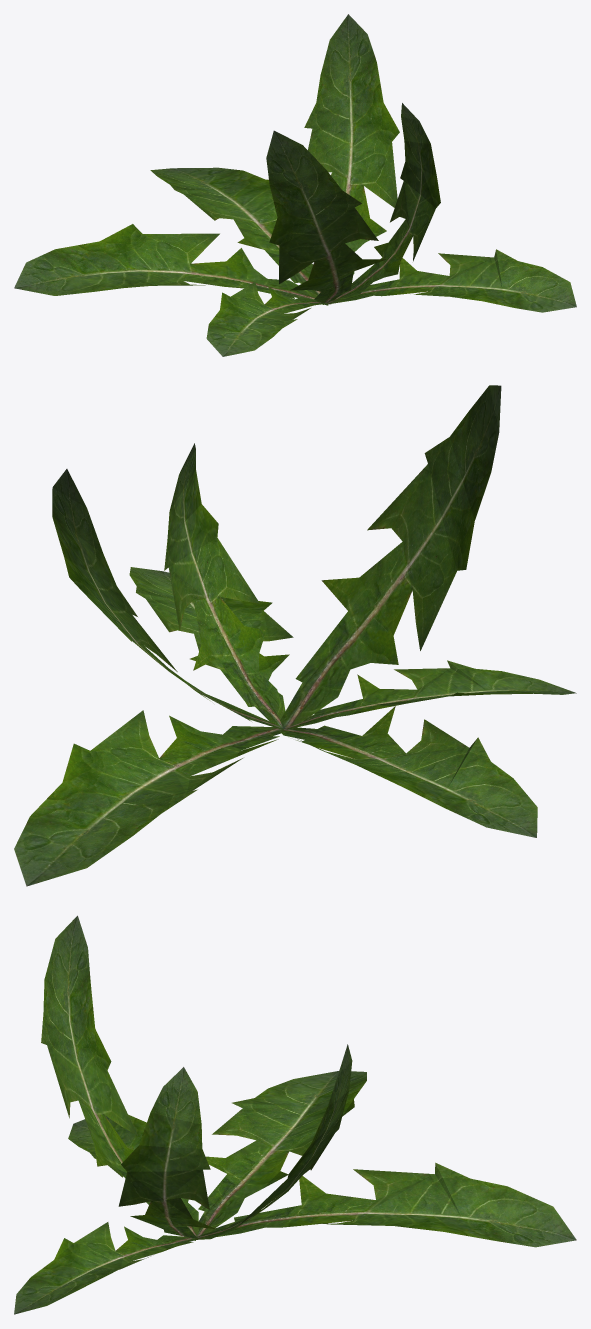
Rendered from Dandelion.obj.
3 renders of one model, top to bottom at view 1: azimuth 30°, elevation 25°; view 2: azimuth 150°, elevation 25°; view 3: azimuth 270°, elevation 25°, orthographic. The views are drawn at different scales.
Visible parts, largest first — view 1: dandelion01; view 2: dandelion01; view 3: dandelion01.
Part boxes in pixels (box(x1,y1,x2,y2)): dandelion01: box(14, 14, 576, 356); dandelion01: box(14, 385, 576, 886); dandelion01: box(14, 915, 576, 1314).
Bounding box in the file's own units: 336 × 179 × 343.
Materials: 1 (1 with a texture image).
